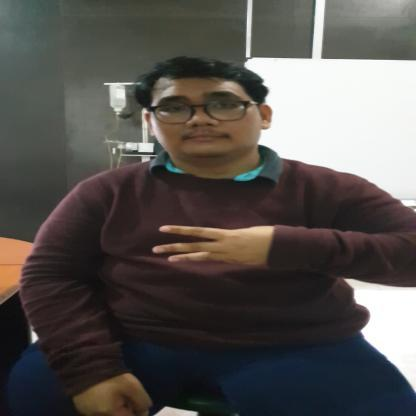E: (150, 224, 273, 266)
